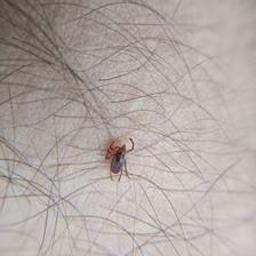Rhipicephalus sanguineus: (104, 139, 135, 181)
